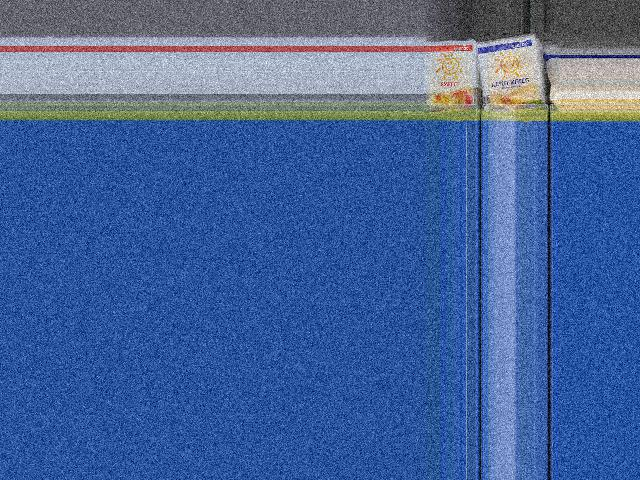cheese: (422, 35, 477, 121)
